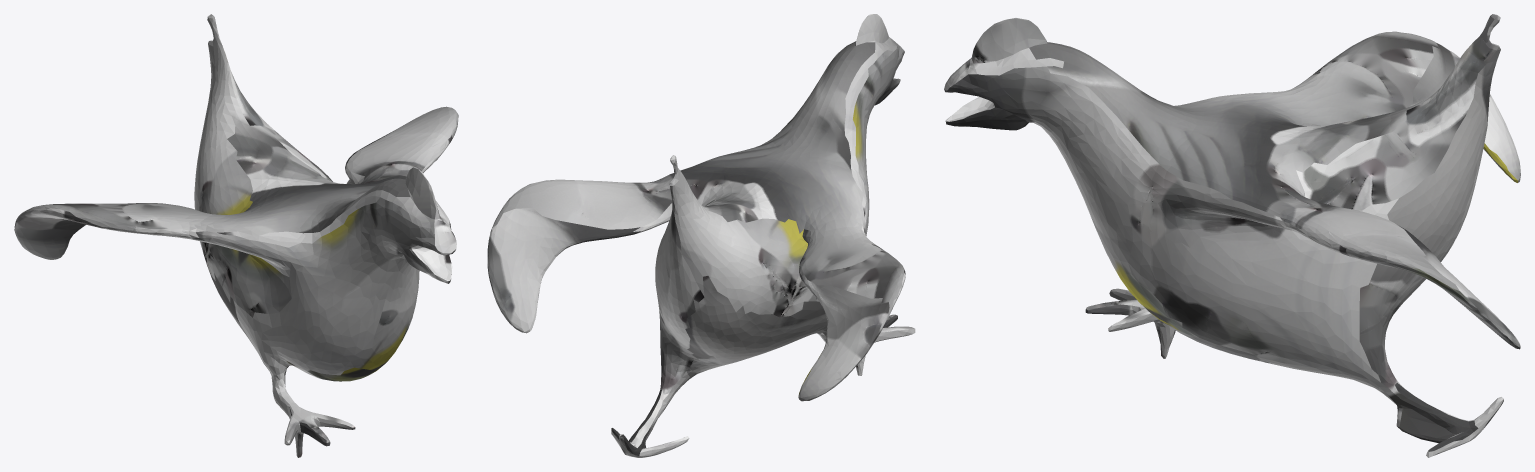
File: prompt_86.obj
3 views of the same model, side by side, from view 1: azimuth 30°, elevation 25°; view 2: azimuth 150°, elevation 25°; view 3: azimuth 270°, elevation 25° (orthographic). The views are drawn at different scales.
Visible parts, largest first — view 1: geometry_0_0; view 2: geometry_0_0; view 3: geometry_0_0.
Boxes of the visible parts, x1=… form: geometry_0_0: x1=14, y1=14, x2=458, y2=457; geometry_0_0: x1=487, y1=14, x2=915, y2=457; geometry_0_0: x1=944, y1=14, x2=1520, y2=457.
Bounding box in the file's own units: 0.965 × 0.7645 × 1.
